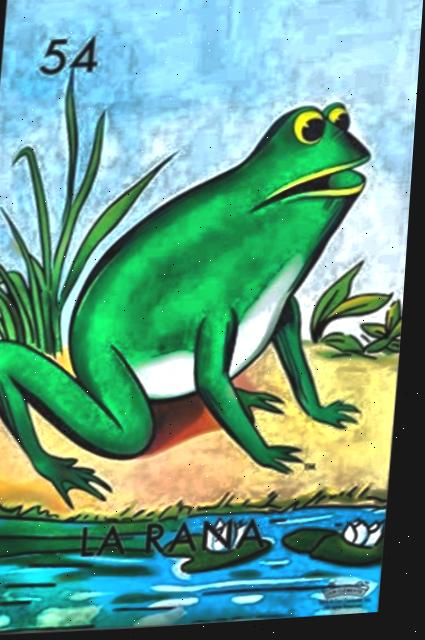La Rana: (0, 0, 425, 638)
